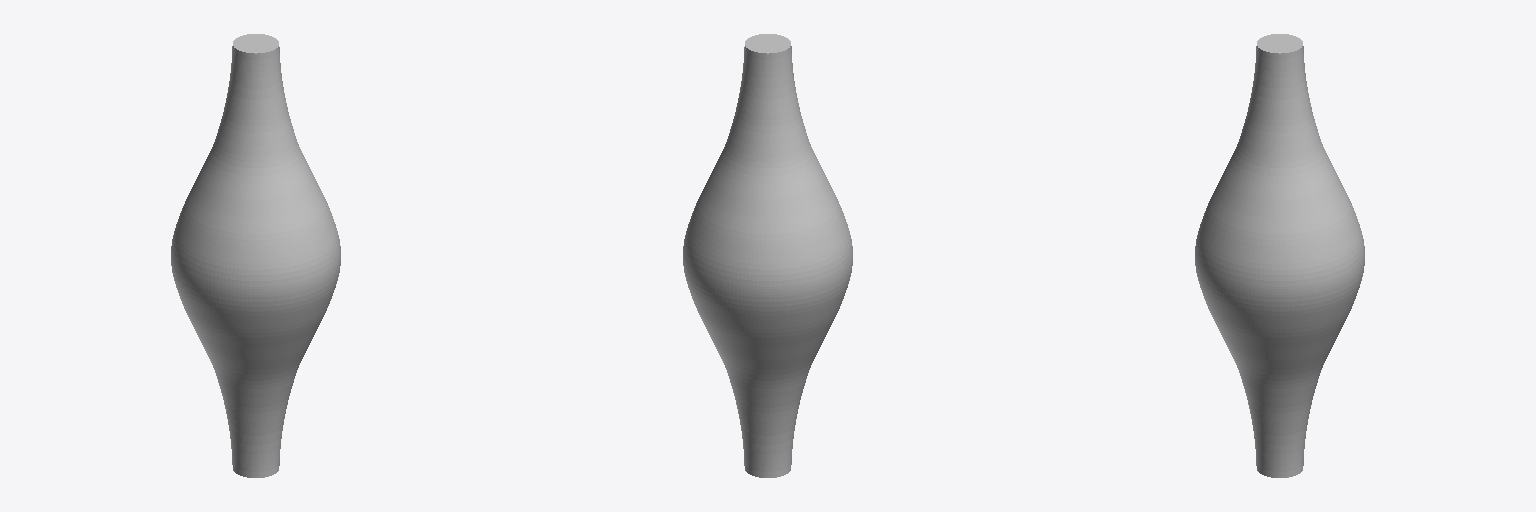
Rendered from 190708_Ether_100type_drop2.obj.
The picture shows the model from 3 angles: view 1: azimuth 30°, elevation 25°; view 2: azimuth 150°, elevation 25°; view 3: azimuth 270°, elevation 25°; orthographic projection.
Visible parts, largest first — view 1: object_1; view 2: object_1; view 3: object_1.
Boxes of the visible parts, box(x1,y1,x2,y2) form: object_1: box(171, 34, 340, 477); object_1: box(683, 34, 852, 477); object_1: box(1195, 34, 1364, 477).
Size of the model in its own units: 36.34 by 100 by 36.34.